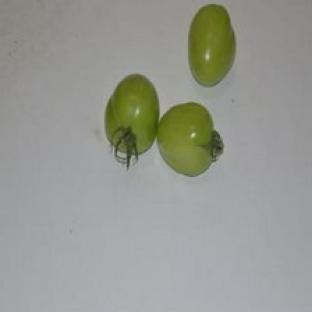Tomato: (105, 74, 158, 167), (158, 102, 222, 176), (189, 5, 235, 86)
